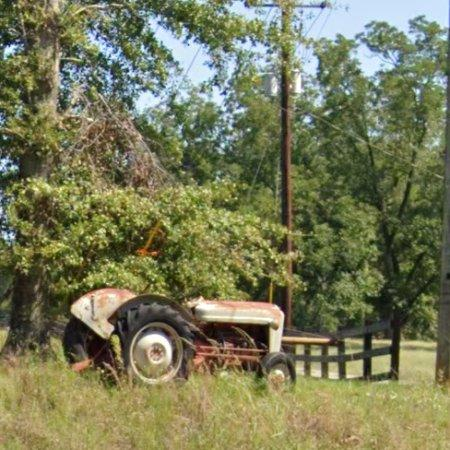tractors: (63, 289, 294, 386)
